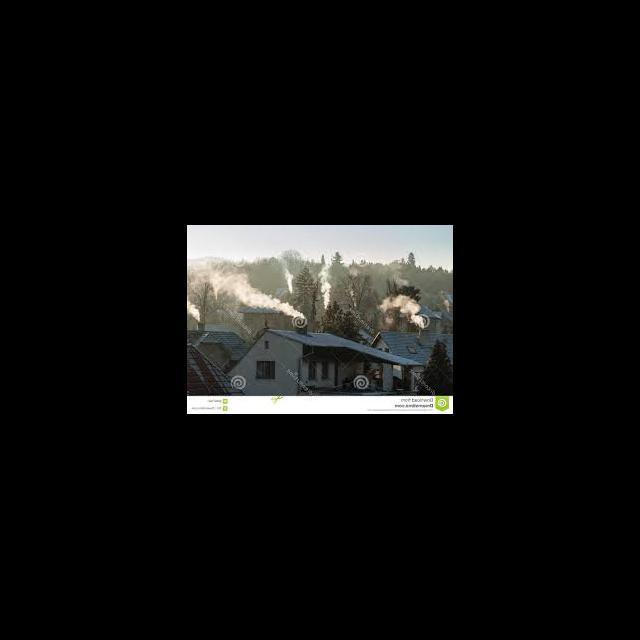Smoke: (208, 276, 306, 316), (382, 296, 429, 326), (321, 266, 334, 309), (188, 302, 203, 320), (284, 270, 296, 292)
